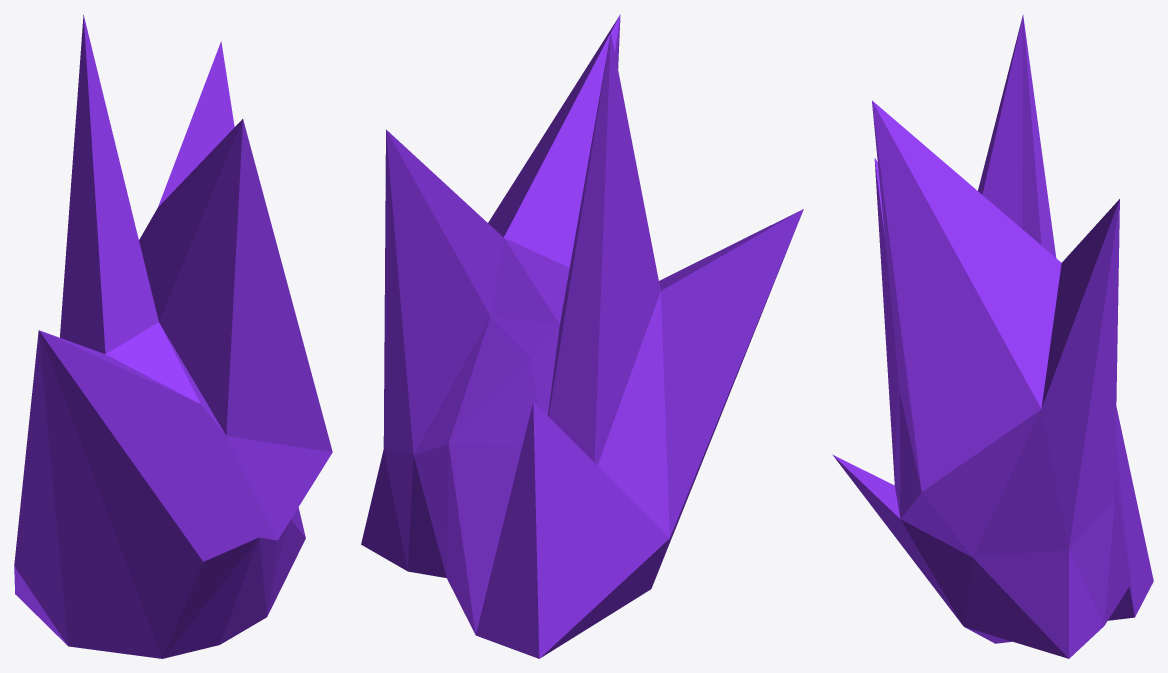
The model's file is Fragmento.fbx.
3 views of the same model, side by side, from view 1: azimuth 30°, elevation 25°; view 2: azimuth 150°, elevation 25°; view 3: azimuth 270°, elevation 25° (orthographic). The views are drawn at different scales.
Parts seen in each view (by area): view 1: Fragmento; view 2: Fragmento; view 3: Fragmento.
Boxes of the visible parts, bbox=[...] form: Fragmento: bbox=[14, 15, 332, 658]; Fragmento: bbox=[361, 14, 803, 658]; Fragmento: bbox=[832, 14, 1153, 658].
Size of the model in its own units: 4507 by 7467 by 3748.
